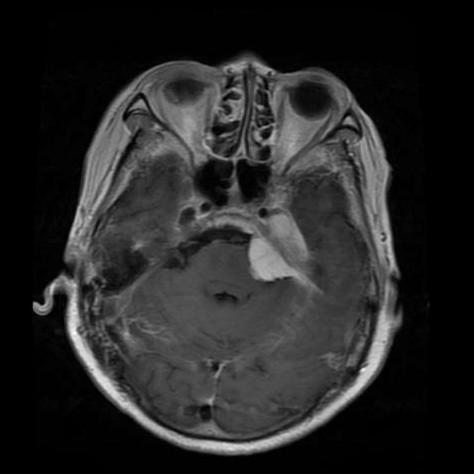Tumour-Meningioma: (234, 210, 326, 308)
